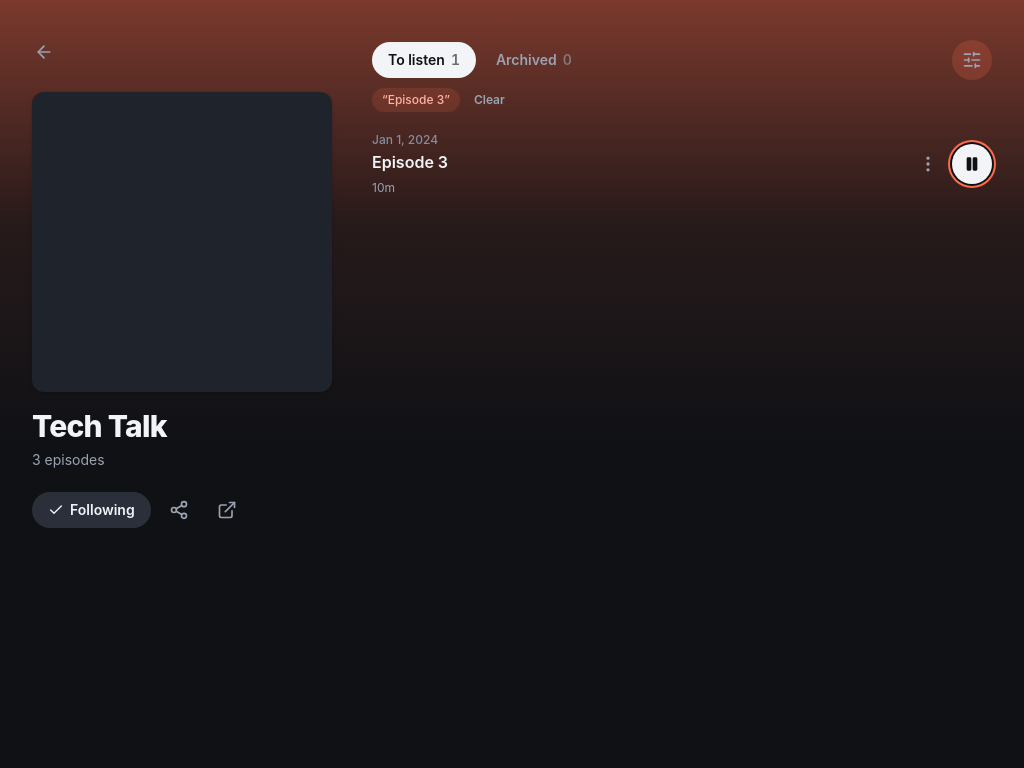
PodcastPage › applies the saved filter of the podcast and can clear it
The image size is (1024, 768).
Expected: the heading "Episode 3" is shown, left=372, top=152, right=448, bottom=172
Expected: the text "Episode 1" is not shown
What coordinates should you click on to do the following:
click the button "Clear"
I would click on:
 (489, 100)
Its box is left=466, top=88, right=513, bottom=112.
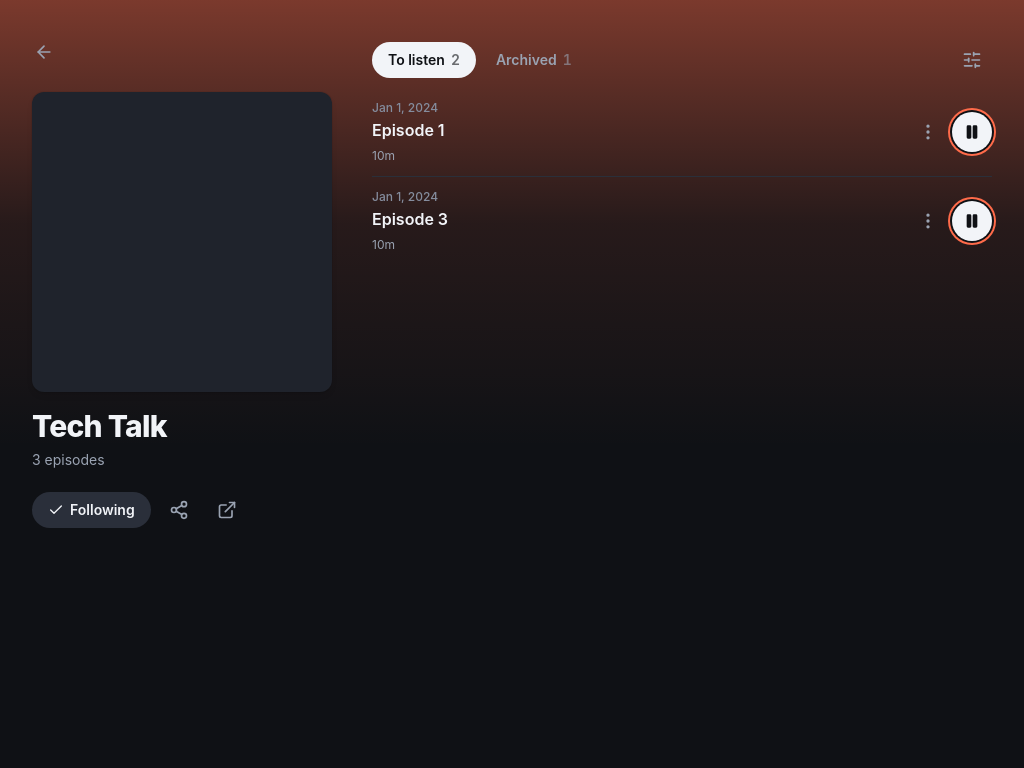
Result: the heading "Episode 1" is shown at left=372, top=120, right=445, bottom=140
